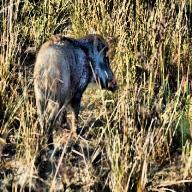boar: (24, 34, 125, 140)
